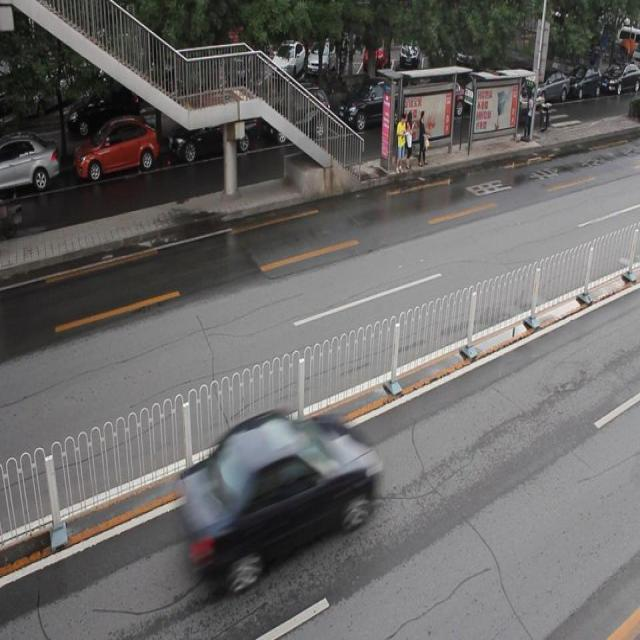car: (179, 410, 379, 588), (74, 119, 159, 183), (170, 100, 258, 161), (339, 76, 410, 134), (266, 85, 332, 146), (0, 136, 62, 196)
